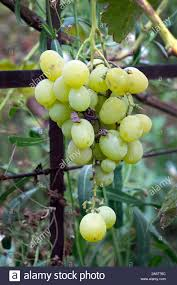grapes: (33, 40, 148, 252)
